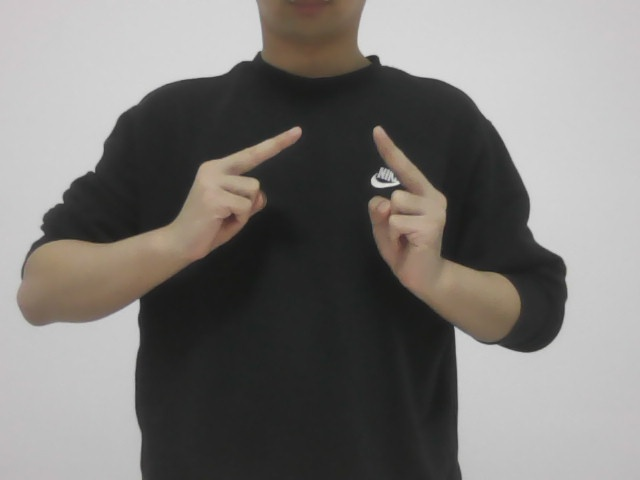know: (170, 121, 451, 304)
